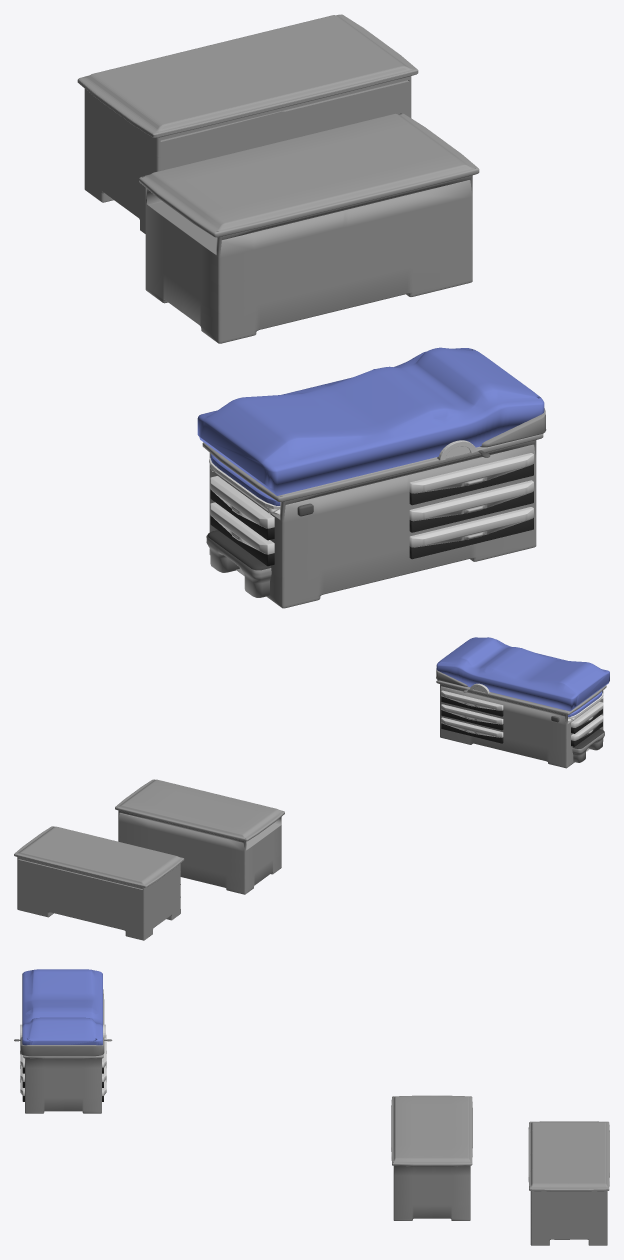
The model's file is drOfficeBed.fbx.
3 renders of one model, top to bottom at view 1: azimuth 30°, elevation 25°; view 2: azimuth 150°, elevation 25°; view 3: azimuth 270°, elevation 25°, orthographic. The views are drawn at different scales.
Parts seen in each view (by area): view 1: Cube.020, Cube.010, Cube.001, Cube, Cube.018, Cube.019, Cube.017, Cube.007, Cube.021, Cube.005, Cube.009; view 2: Cube.010, Cube.020, Cube.001, Cube, Cube.003, Cube.002, Cube.004, Cube.007, Cube.021, Cube.005; view 3: Cube.020, Cube.010, Cube.001, Cube, Cube.009.
Boxes of the visible parts, bbox=[...] form: Cube.020: bbox=[139, 113, 479, 343]; Cube.010: bbox=[77, 14, 418, 233]; Cube.001: bbox=[197, 347, 544, 495]; Cube: bbox=[202, 434, 543, 608]; Cube.018: bbox=[409, 480, 533, 532]; Cube.019: bbox=[409, 453, 533, 505]; Cube.017: bbox=[409, 507, 533, 559]; Cube.007: bbox=[206, 530, 271, 597]; Cube.021: bbox=[210, 476, 274, 540]; Cube.005: bbox=[210, 502, 274, 566]; Cube.009: bbox=[480, 408, 546, 447]; Cube.010: bbox=[14, 826, 184, 940]; Cube.020: bbox=[115, 779, 284, 894]; Cube.001: bbox=[436, 637, 609, 711]; Cube: bbox=[436, 680, 606, 768]; Cube.003: bbox=[441, 704, 503, 730]; Cube.002: bbox=[441, 690, 503, 716]; Cube.004: bbox=[441, 717, 503, 743]; Cube.007: bbox=[572, 729, 604, 762]; Cube.021: bbox=[571, 701, 603, 733]; Cube.005: bbox=[571, 715, 603, 746]; Cube.020: bbox=[391, 1095, 472, 1220]; Cube.010: bbox=[528, 1121, 609, 1245]; Cube.001: bbox=[22, 969, 102, 1045]; Cube: bbox=[23, 989, 104, 1113]; Cube.009: bbox=[20, 1037, 104, 1056].
Size of the model in its own units: 6559 by 2358 by 10171.
